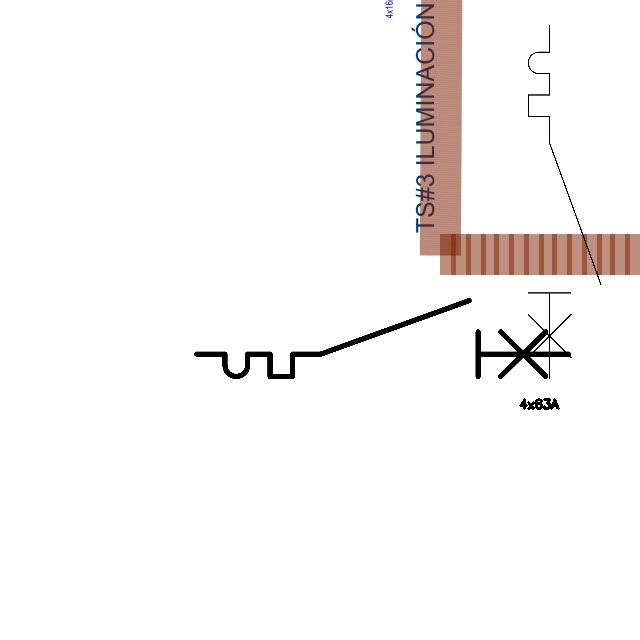interruptor_termomagnetico: (187, 291, 578, 386), (519, 16, 610, 388)
